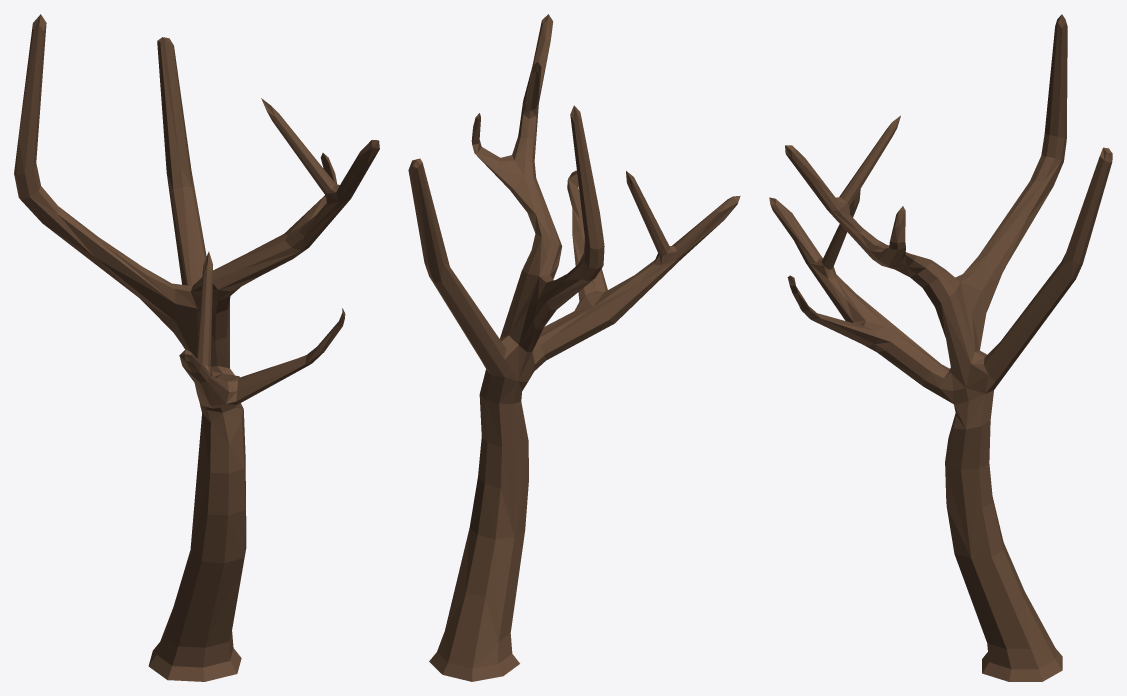
The model's file is CommonTree_Dead_5.glb.
The picture shows the model from 3 angles, left to right: view 1: azimuth 30°, elevation 25°; view 2: azimuth 150°, elevation 25°; view 3: azimuth 270°, elevation 25°; orthographic projection. The views are drawn at different scales.
Visible parts, largest first — view 1: CommonTree_Dead_5; view 2: CommonTree_Dead_5; view 3: CommonTree_Dead_5.
Part boxes in pixels (x1=…): CommonTree_Dead_5: x1=14, y1=14, x2=379, y2=681; CommonTree_Dead_5: x1=408, y1=14, x2=740, y2=681; CommonTree_Dead_5: x1=769, y1=14, x2=1112, y2=681.
Bounding box in the file's own units: 0.8443 × 2.29 × 1.2.
